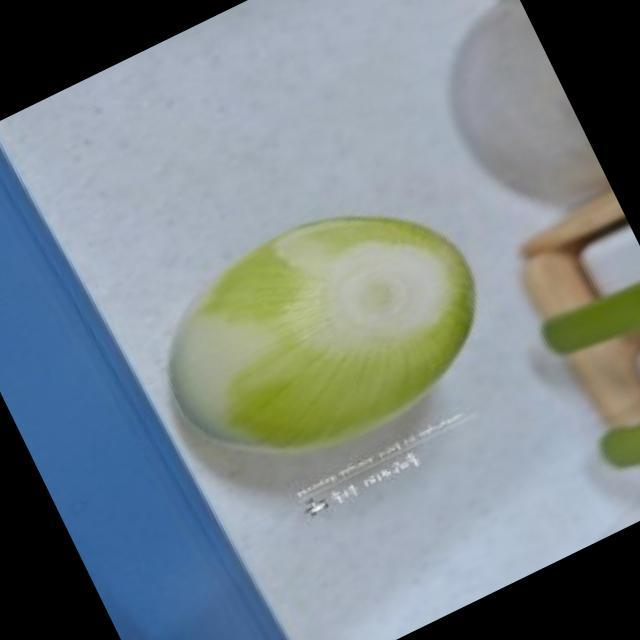Onion: (165, 217, 475, 449)
